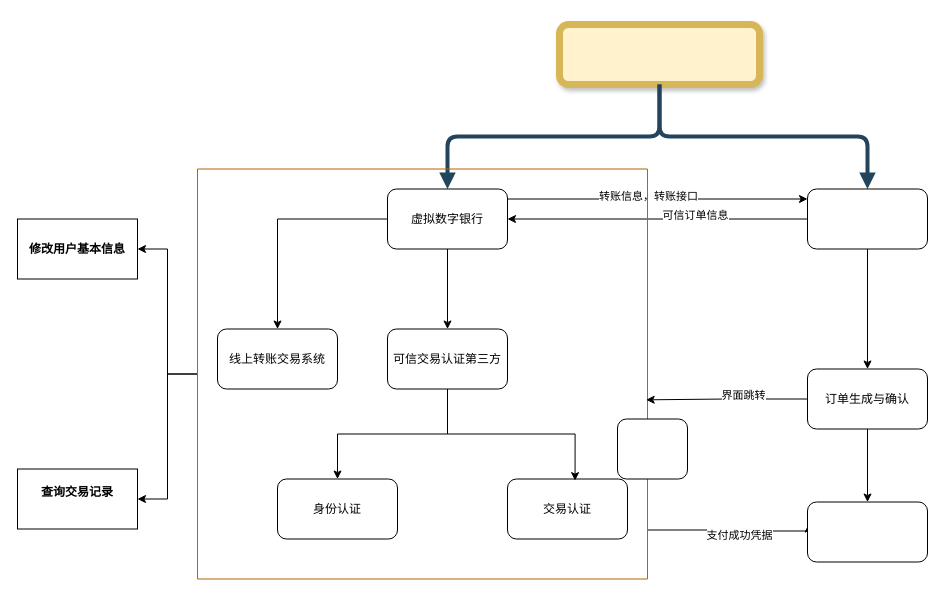
Image size: 945x597. Some labels were removed from this diagram. The centre of each missing label's shape, as x and y in pixels:
"完成支付" goes at point (867, 531).
"密码验证" goes at point (652, 448).
"虚拟交易平台设计实现" goes at point (660, 55).
"虚拟商城交易平台" goes at point (867, 218).
